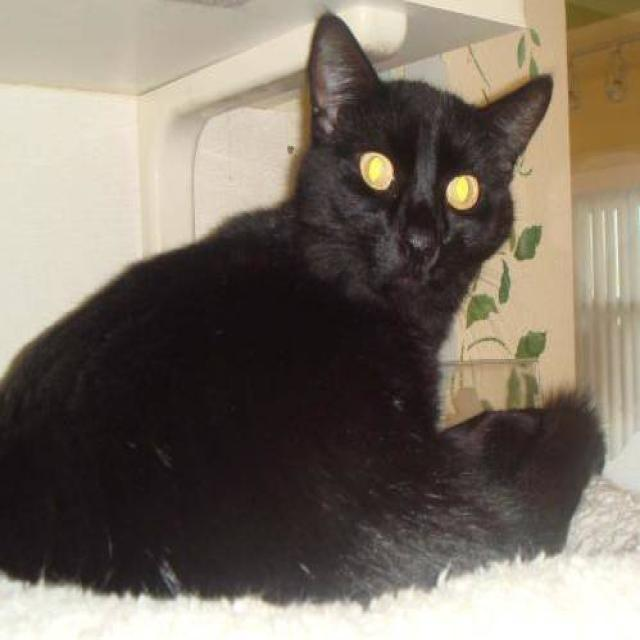cat: (0, 10, 607, 606)
